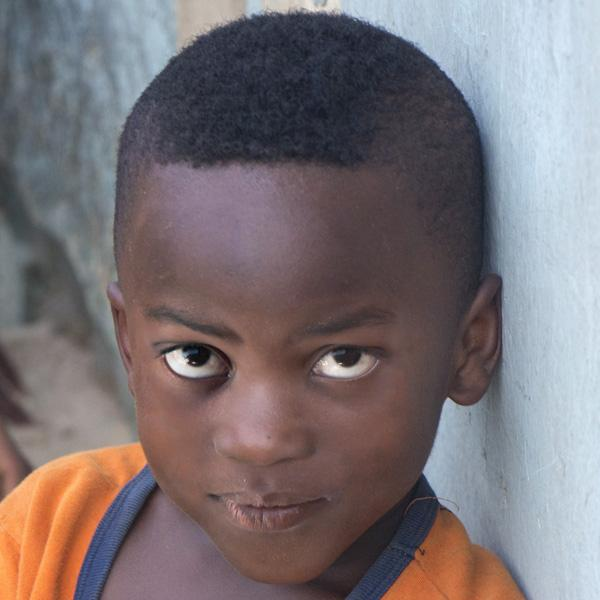Eyes: (298, 330, 389, 395), (149, 328, 241, 390)
